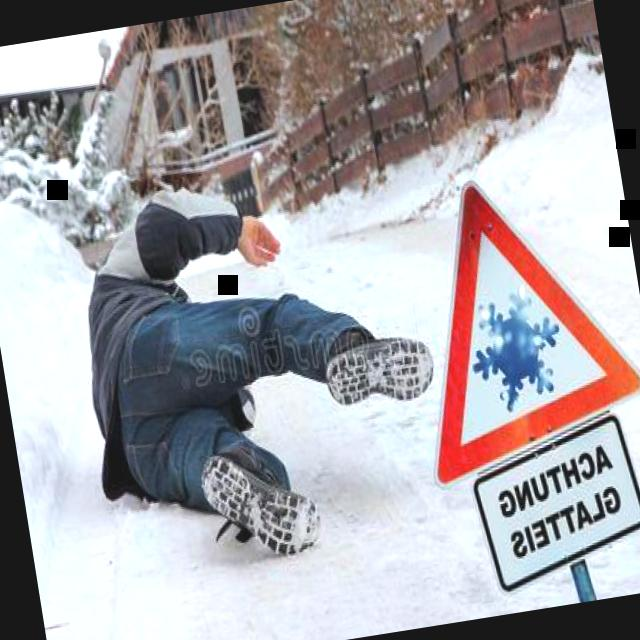Fall-Detected: (38, 117, 455, 582)
